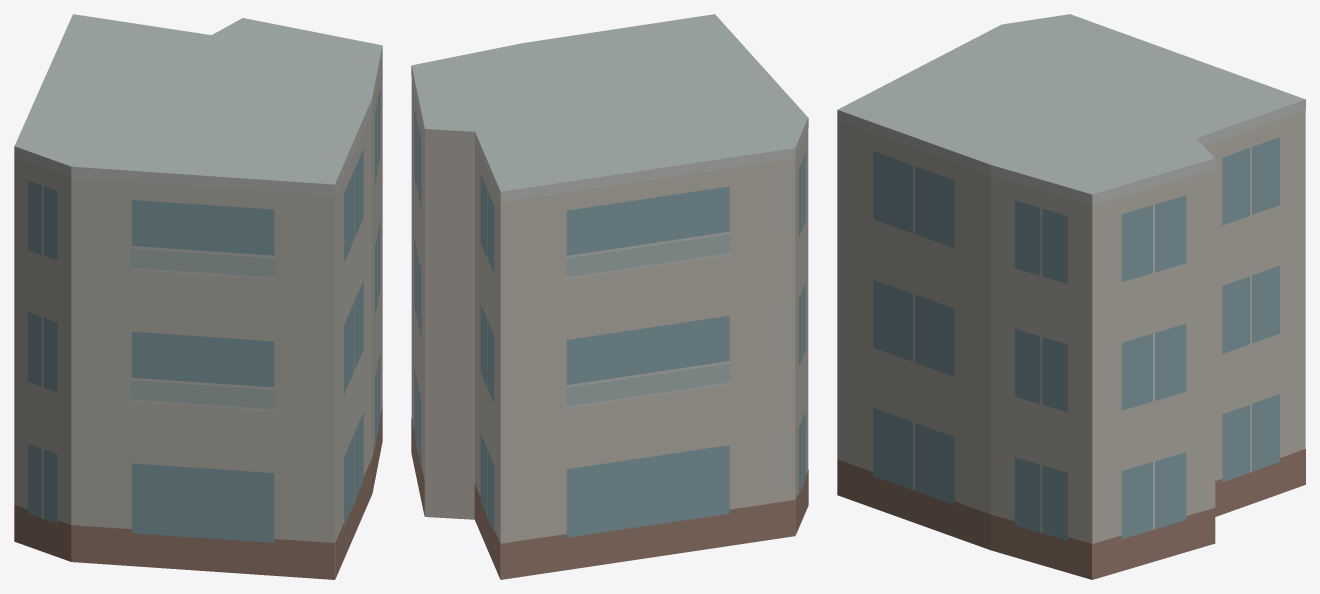
Rendered from survey-upis-33027383.glb.
3 views of the same model, side by side, from view 1: azimuth 30°, elevation 25°; view 2: azimuth 150°, elevation 25°; view 3: azimuth 270°, elevation 25° (orthographic). The views are drawn at different scales.
Parts seen in each view (by area): view 1: survey-upis-33027383.tmp; view 2: survey-upis-33027383.tmp; view 3: survey-upis-33027383.tmp.
Part boxes in pixels (x1,y1,x2,y2): survey-upis-33027383.tmp: (14,14,382,579); survey-upis-33027383.tmp: (411,14,808,579); survey-upis-33027383.tmp: (837,14,1305,579).
Bounding box in the file's own units: 8.9 × 8.85 × 9.76.
